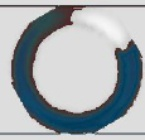ProgressBar: (1, 1, 144, 139)
